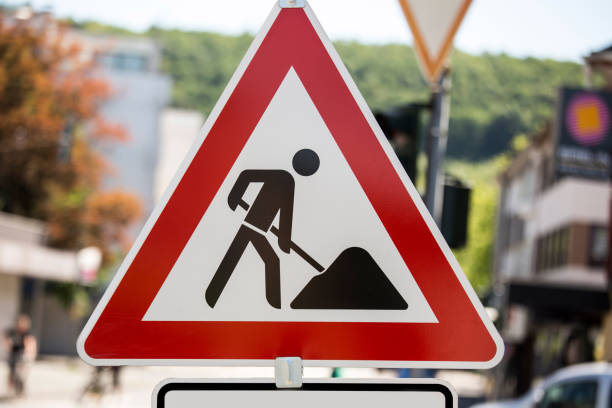yol_calismasi_levha: (77, 7, 503, 372)
